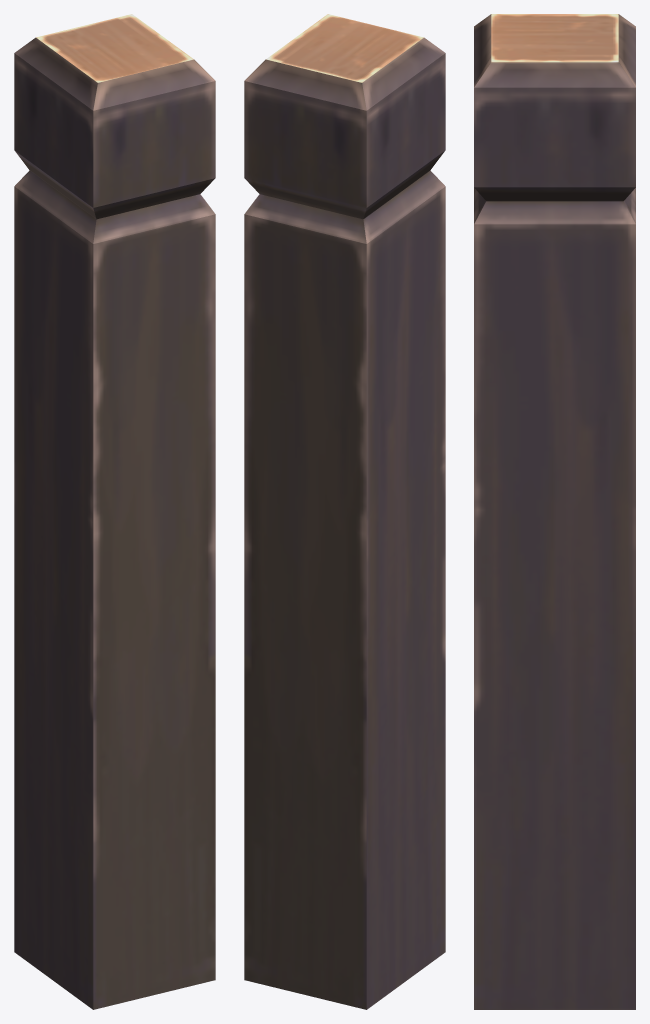
File: HuBian_NightMutou2_fbx.FBX
The picture shows the model from 3 angles, left to right: view 1: azimuth 30°, elevation 25°; view 2: azimuth 150°, elevation 25°; view 3: azimuth 270°, elevation 25°; orthographic projection. The views are drawn at different scales.
Parts seen in each view (by area): view 1: Box028; view 2: Box028; view 3: Box028.
Part boxes in pixels (box(x1,y1,x2,y2)): Box028: box(14, 14, 215, 1009); Box028: box(244, 14, 445, 1009); Box028: box(474, 14, 635, 1009).
Size of the model in its own units: 0.1791 by 1.28 by 0.2.
Materials: 1 (1 with a texture image).
